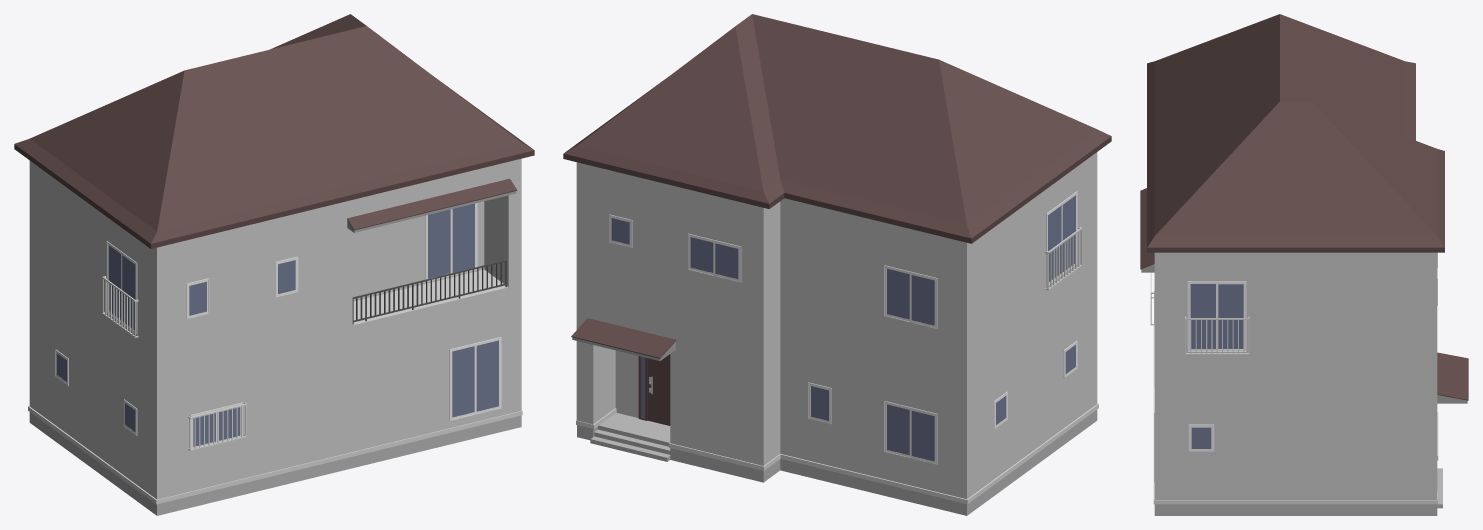
The model's file is MobHouse39.fbx.
3 views of the same model, side by side, from view 1: azimuth 30°, elevation 25°; view 2: azimuth 150°, elevation 25°; view 3: azimuth 270°, elevation 25° (orthographic). The views are drawn at different scales.
Parts seen in each view (by area): view 1: Flat_half_house01.039; view 2: Flat_half_house01.039; view 3: Flat_half_house01.039.
Part boxes in pixels (<box>): Flat_half_house01.039: <box>14,14,534,515</box>; Flat_half_house01.039: <box>563,14,1111,515</box>; Flat_half_house01.039: <box>1140,14,1468,515</box>.
Size of the model in its own units: 9.62 by 9.02 by 7.25.
